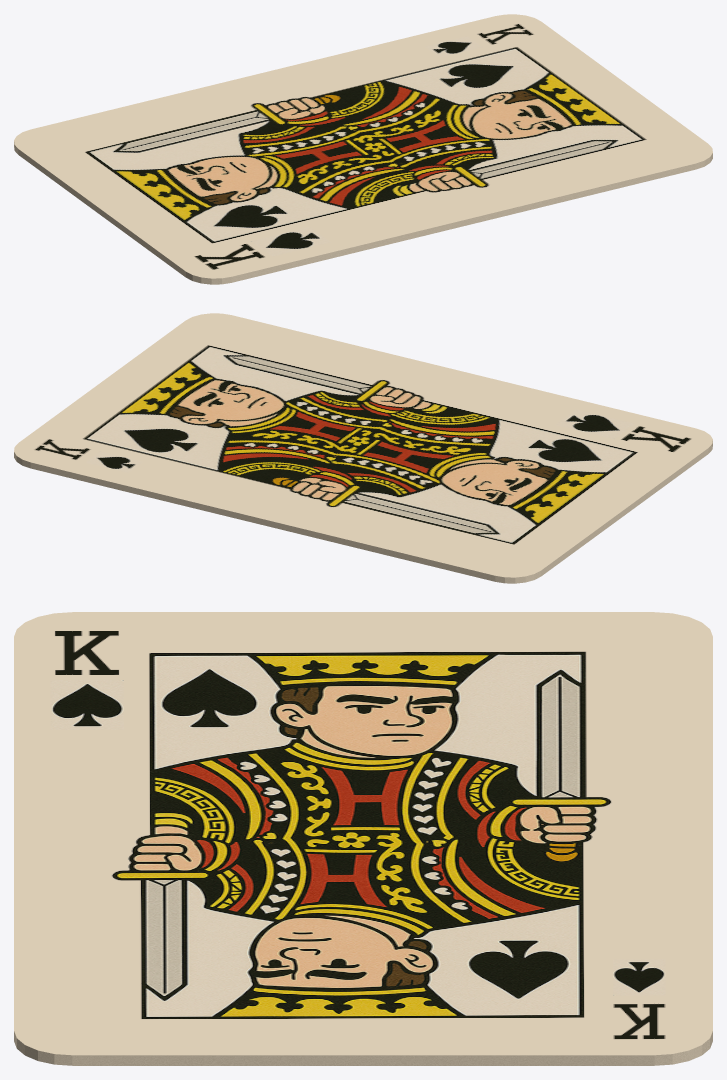
File: card.fbx
3 views of the same model, one above another, from view 1: azimuth 30°, elevation 25°; view 2: azimuth 150°, elevation 25°; view 3: azimuth 270°, elevation 25° (orthographic). The views are drawn at different scales.
Visible parts, largest first — view 1: Face, Card.001; view 2: Face, Card.001; view 3: Face, Card.001.
Part boxes in pixels (bbox=[...]): Face: bbox=[14, 14, 712, 278]; Card.001: bbox=[14, 142, 712, 284]; Face: bbox=[14, 313, 712, 577]; Card.001: bbox=[14, 441, 712, 583]; Face: bbox=[14, 612, 712, 1055]; Card.001: bbox=[14, 1031, 712, 1065].
Bounding box in the file's own units: 180 × 2 × 120.
